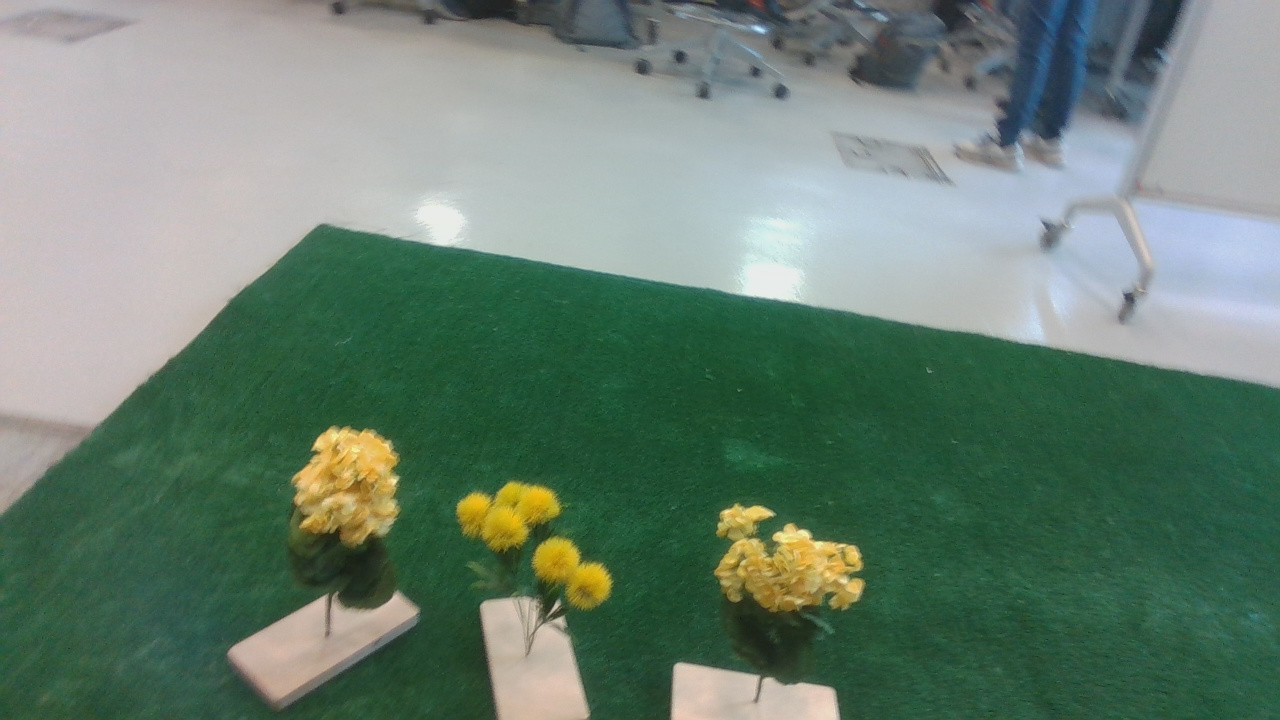dandelion: (444, 478, 627, 621)
geranium: (694, 486, 900, 651), (281, 423, 414, 586)
